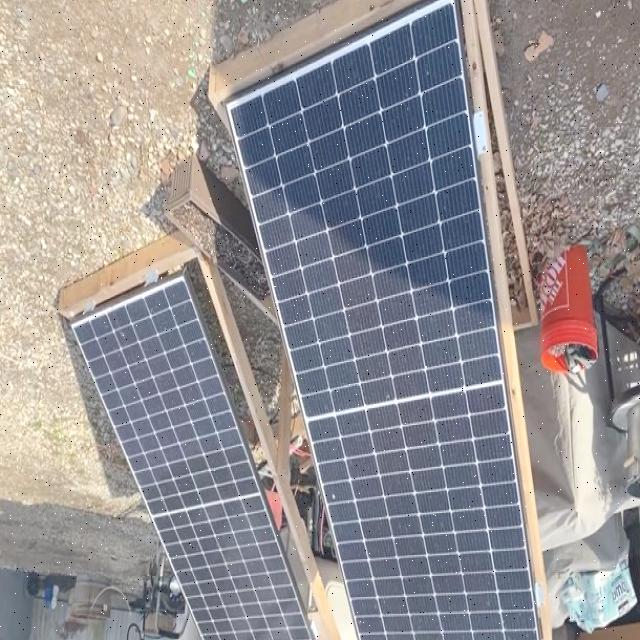Normal Solar Panel: (228, 0, 540, 640), (70, 273, 318, 640)
